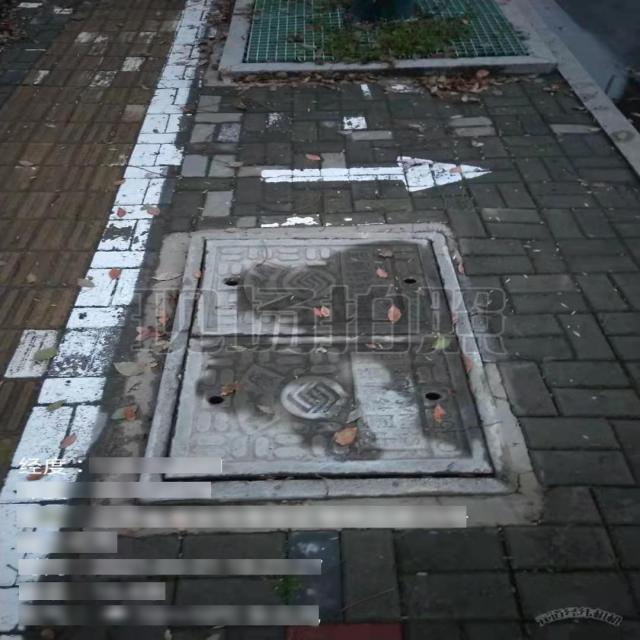Good: (132, 230, 516, 502)
